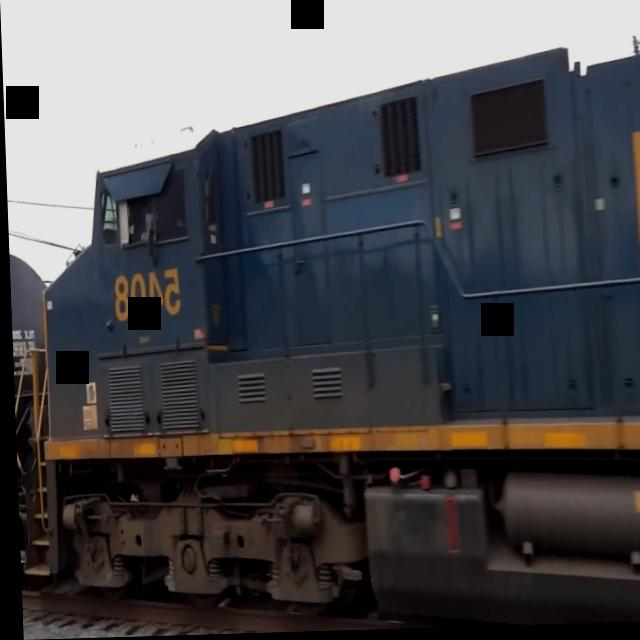locomotive: (28, 18, 640, 639)
